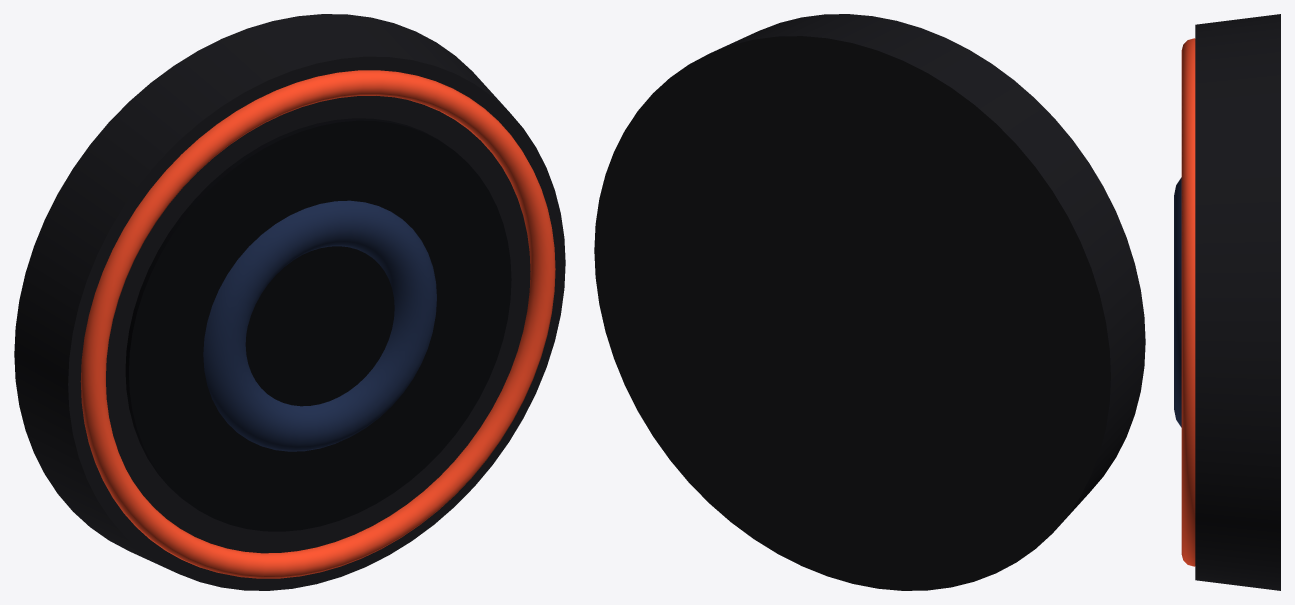
The model's file is 02_Lens_Housing.glb.
3 views of the same model, side by side, from view 1: azimuth 30°, elevation 25°; view 2: azimuth 150°, elevation 25°; view 3: azimuth 270°, elevation 25° (orthographic). The views are drawn at different scales.
Visible parts, largest first — view 1: Lens_Housing.Lens_Glass, Lens_Housing.Rubber_Black, Lens_Housing.Enclave_Orange, Lens_Housing.Lens_Coating; view 2: Lens_Housing.Rubber_Black; view 3: Lens_Housing.Rubber_Black, Lens_Housing.Enclave_Orange, Lens_Housing.Lens_Coating.
Part boxes in pixels (x1,y1,x2,y2): Lens_Housing.Lens_Glass: [125, 118, 511, 531]; Lens_Housing.Rubber_Black: [14, 14, 565, 590]; Lens_Housing.Enclave_Orange: [80, 70, 555, 578]; Lens_Housing.Lens_Coating: [203, 200, 436, 451]; Lens_Housing.Rubber_Black: [594, 14, 1145, 590]; Lens_Housing.Rubber_Black: [1195, 14, 1280, 590]; Lens_Housing.Enclave_Orange: [1181, 38, 1195, 566]; Lens_Housing.Lens_Coating: [1174, 177, 1181, 427].
Bounding box in the file's own units: 0.0351 × 0.0351 × 0.0065.
